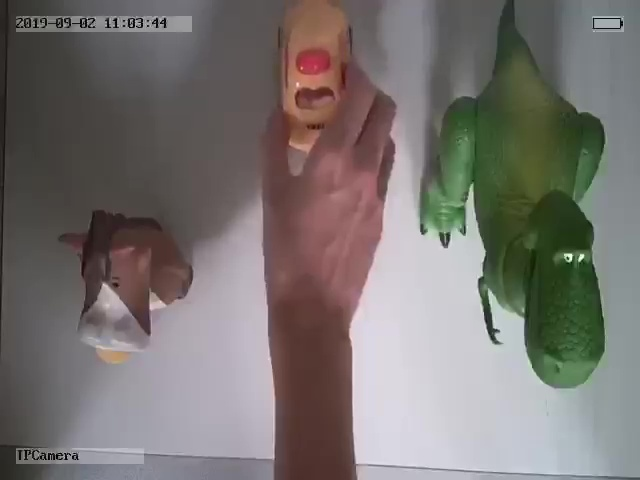horse: (59, 211, 192, 363)
rex: (419, 7, 606, 389)
